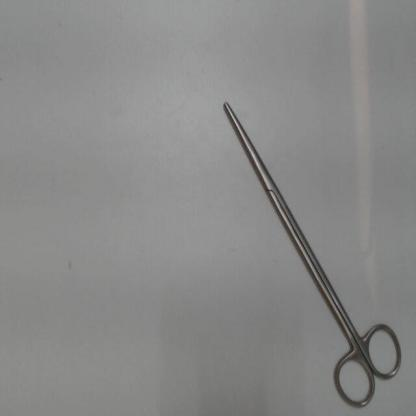9 Metzenbaum Scissors: (219, 95, 406, 414)
